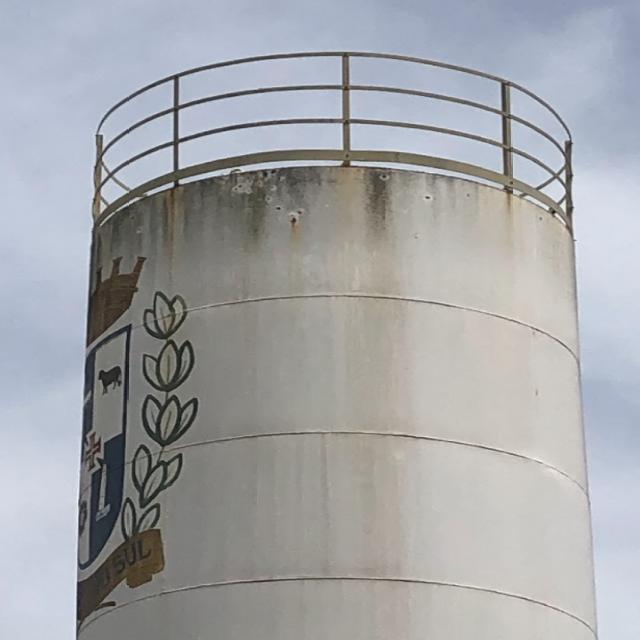Corrosion: (165, 179, 187, 196), (291, 214, 297, 224), (380, 174, 390, 180), (424, 194, 432, 201), (261, 171, 268, 179), (297, 209, 306, 214), (235, 185, 242, 191), (276, 205, 282, 210), (270, 169, 276, 173)
